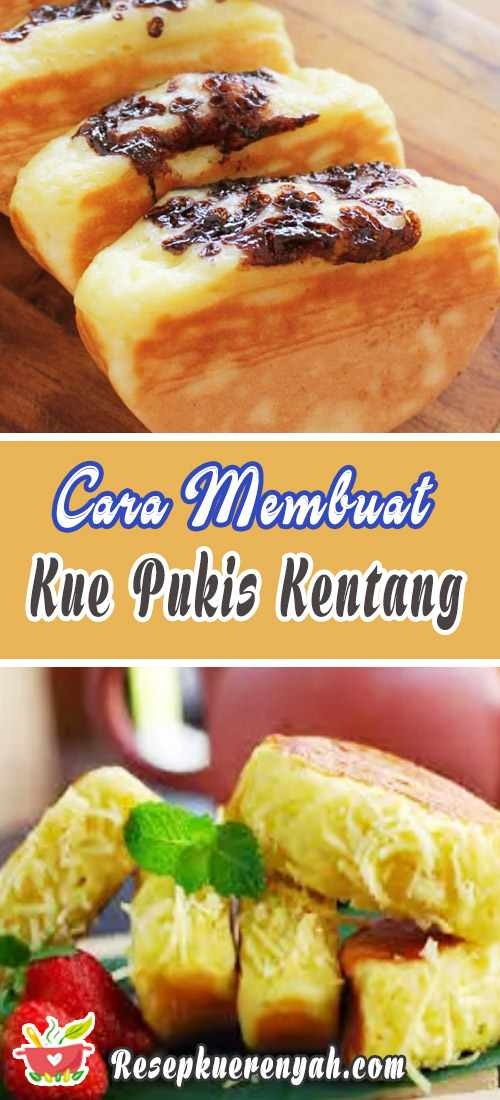pukis: (75, 153, 500, 446)
